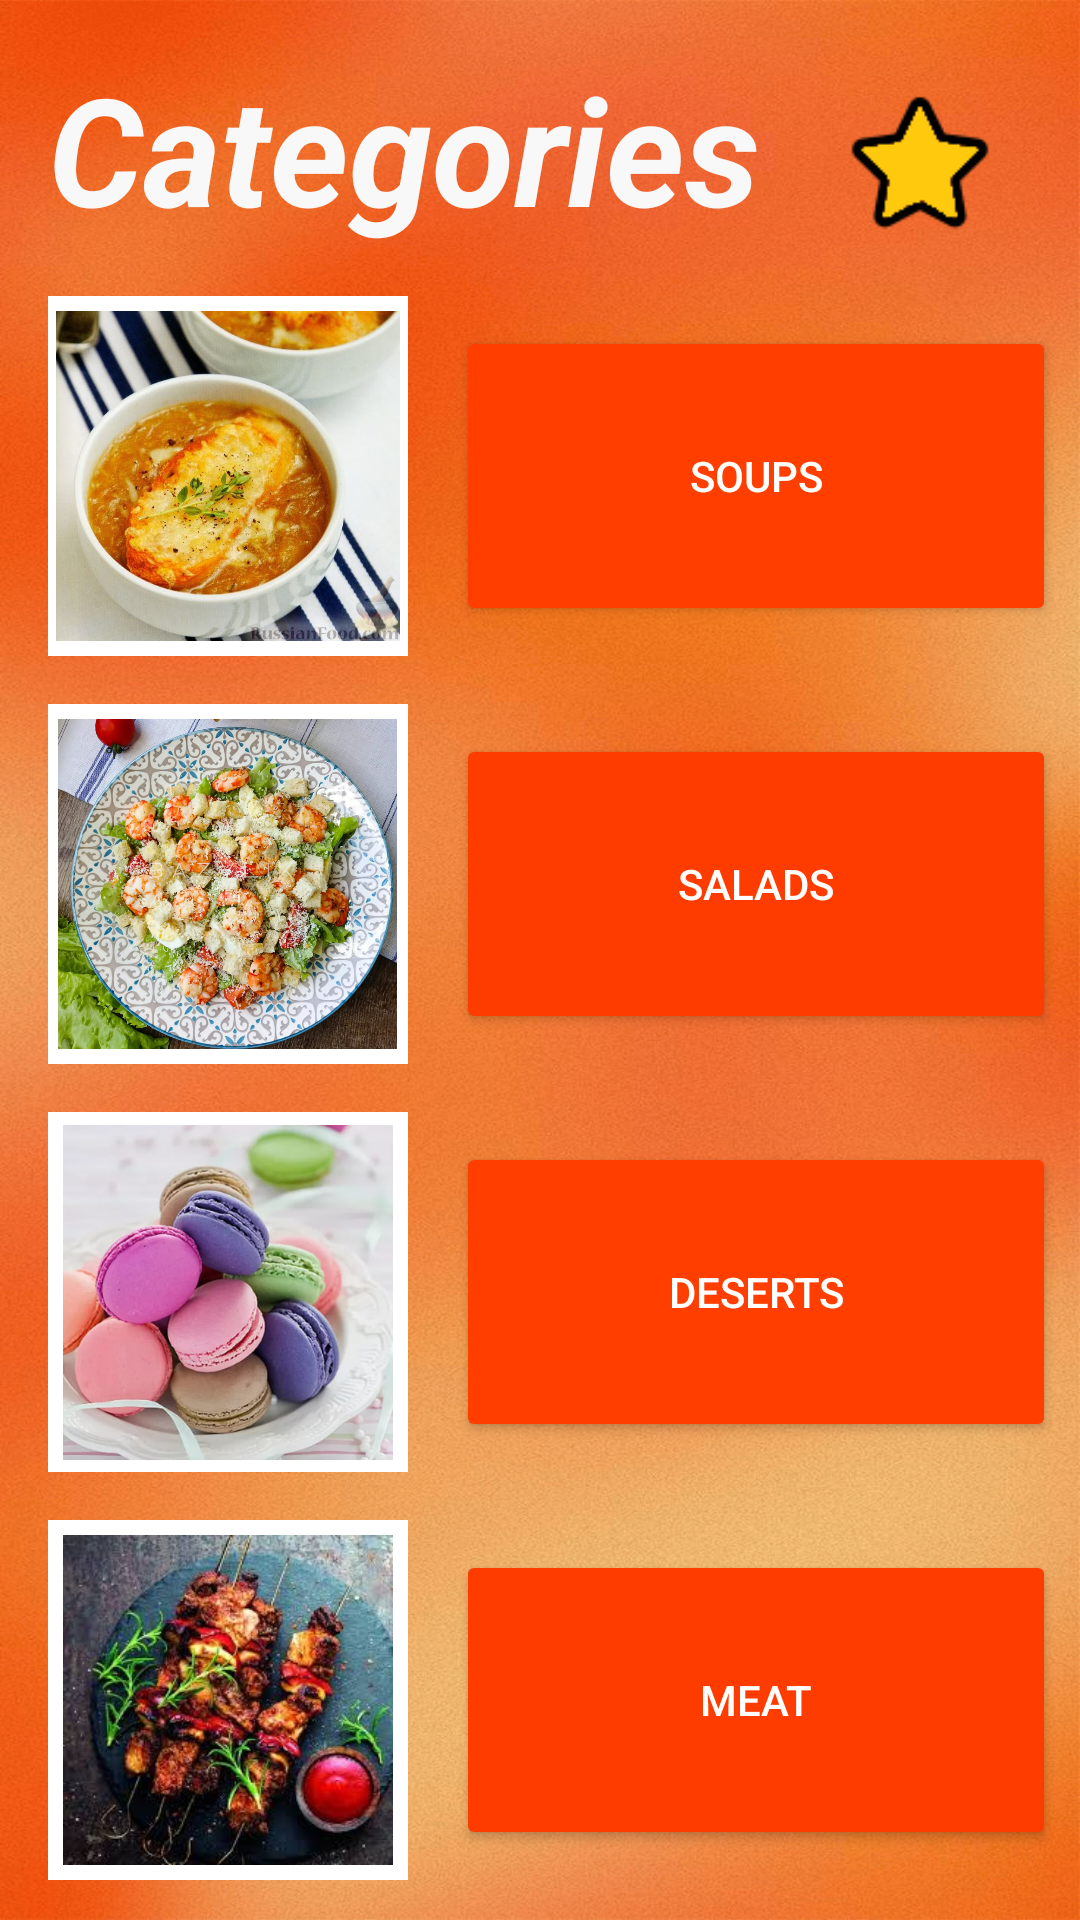

Icon click points for this 1080w x 1920h phone screenshot, format point (x, y):
Favourite: point (920, 162)
